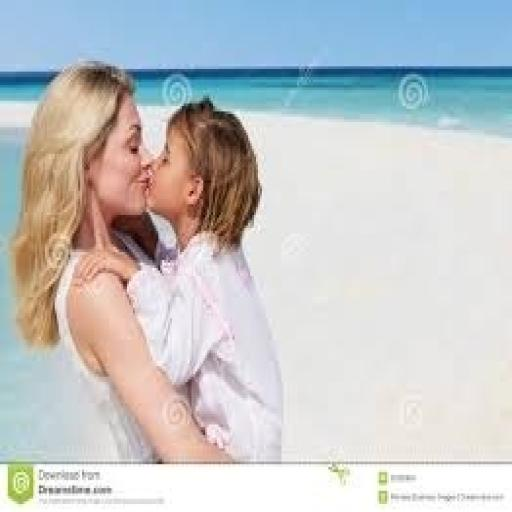hugging: (10, 58, 283, 464)
